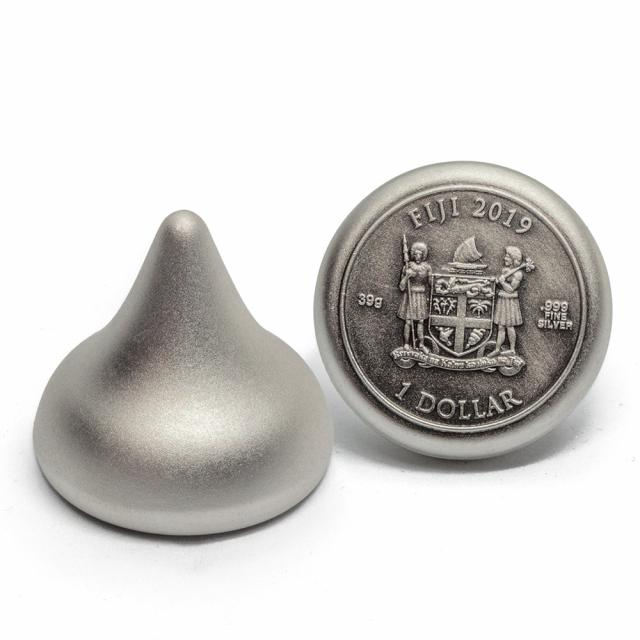kisses: (35, 208, 337, 546)
